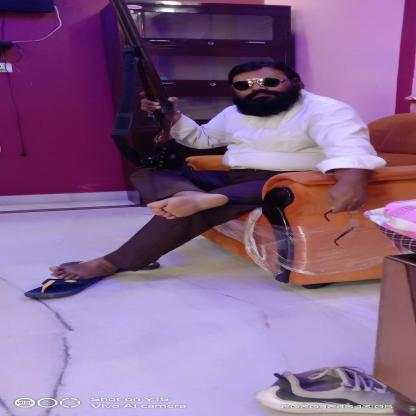rifle: (109, 0, 187, 172)
